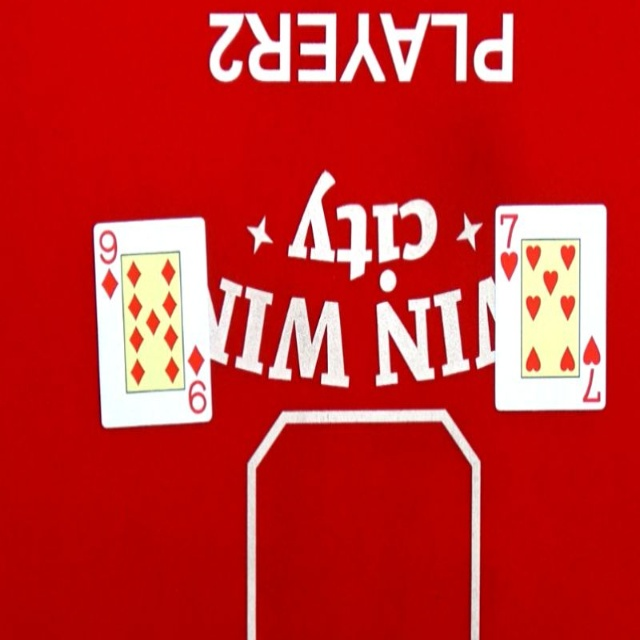7H: (494, 209, 522, 287), (579, 331, 606, 407)
9D: (93, 223, 121, 303), (185, 340, 213, 420)
